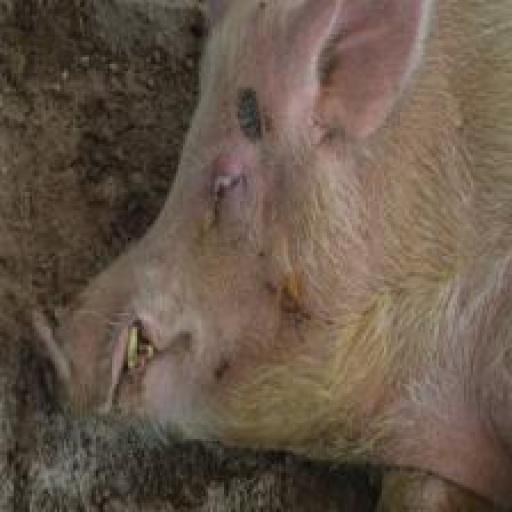Pig: (18, 5, 512, 506)
